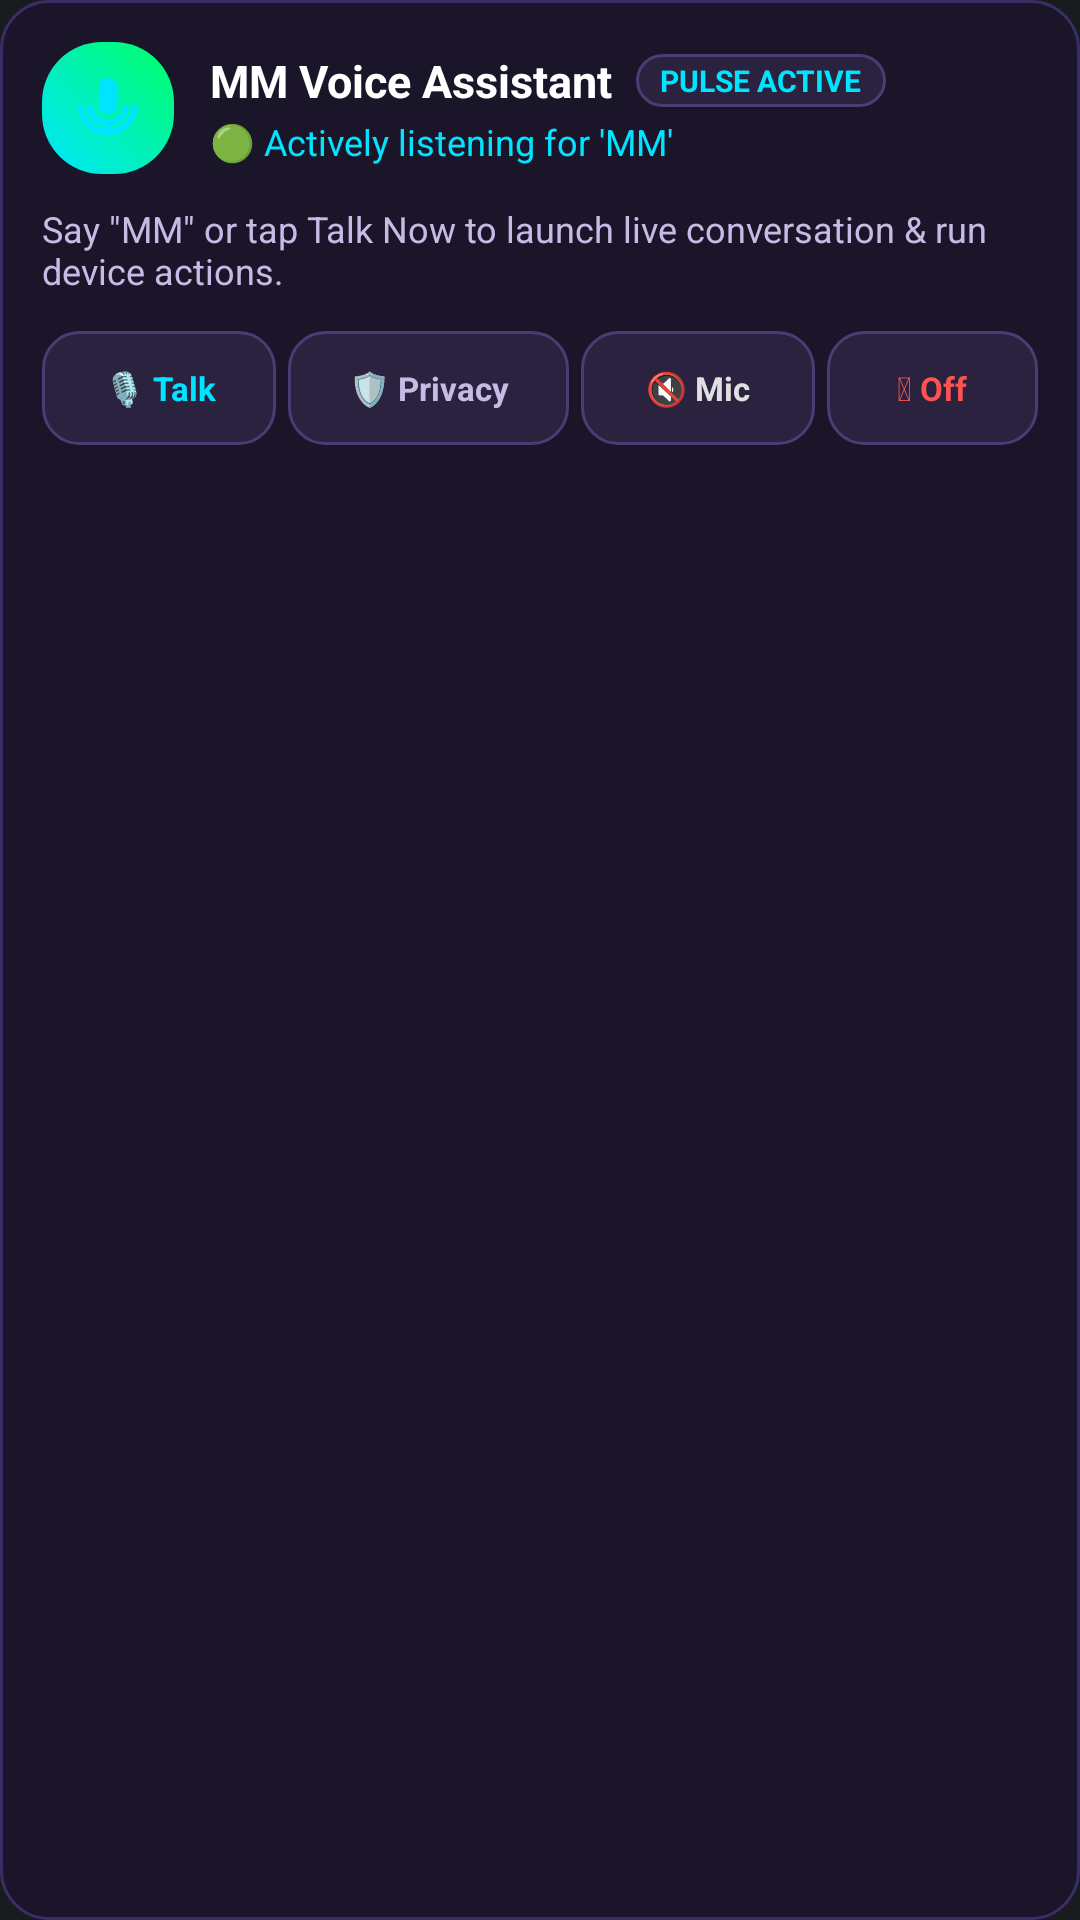

Point at icon controls on the screen. Image size 1080x1920, points as point (x, y).
Assistant Pulse: point (108, 108)
